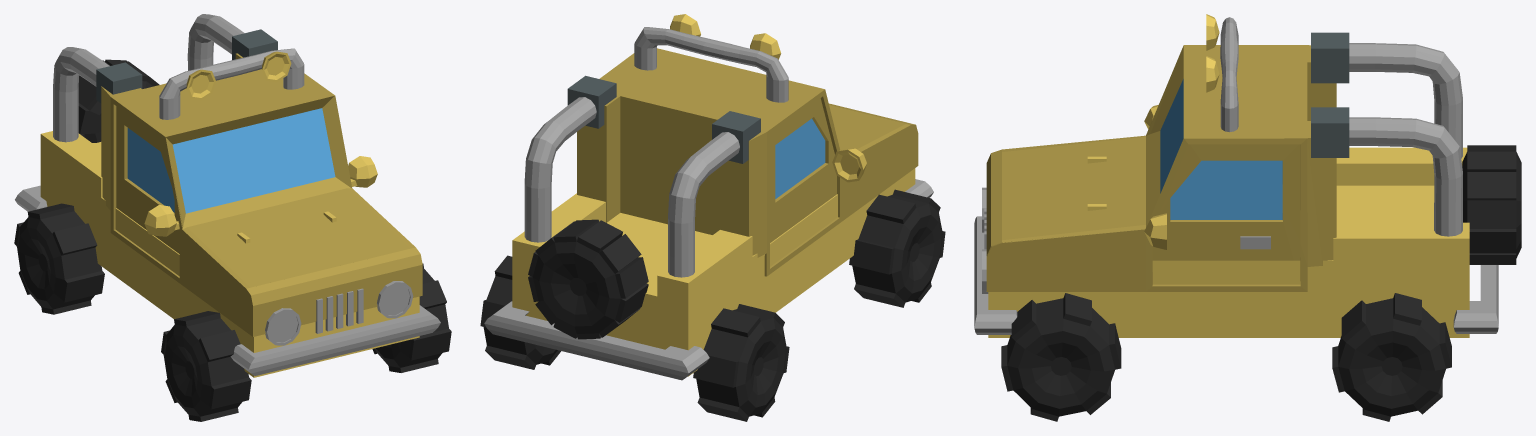
The model's file is Jeep 1.fbx.
3 views of the same model, side by side, from view 1: azimuth 30°, elevation 25°; view 2: azimuth 150°, elevation 25°; view 3: azimuth 270°, elevation 25° (orthographic). The views are drawn at different scales.
Visible parts, largest first — view 1: Cube; view 2: Cube; view 3: Cube.
Boxes of the visible parts, <box> form: Cube: <box>14,14,451,421</box>; Cube: <box>480,14,945,421</box>; Cube: <box>974,14,1521,421</box>.
Bounding box in the file's own units: 5.19 × 3.03 × 3.34.
